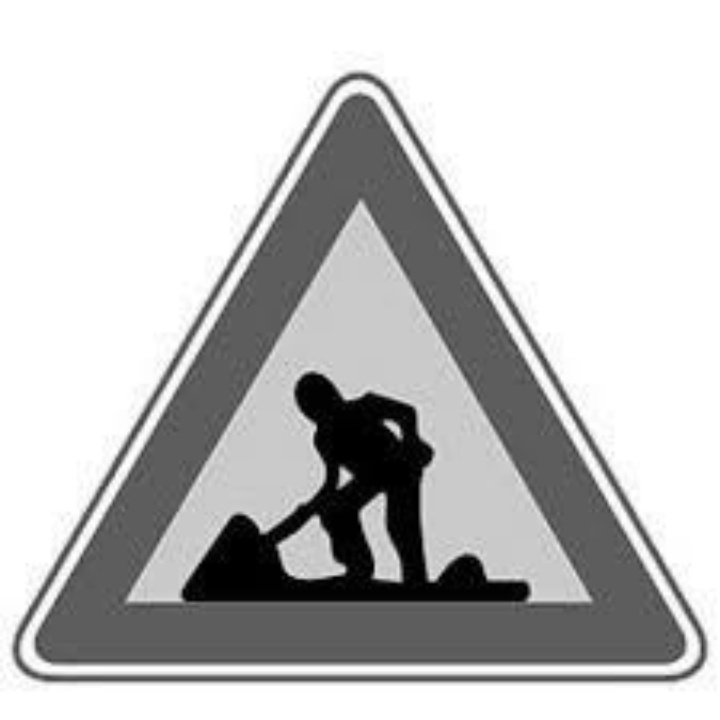const: (153, 331, 594, 625)
